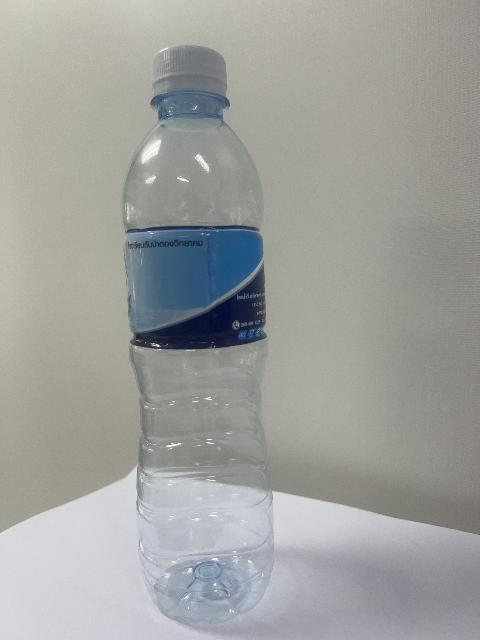bottle: (123, 46, 273, 623)
